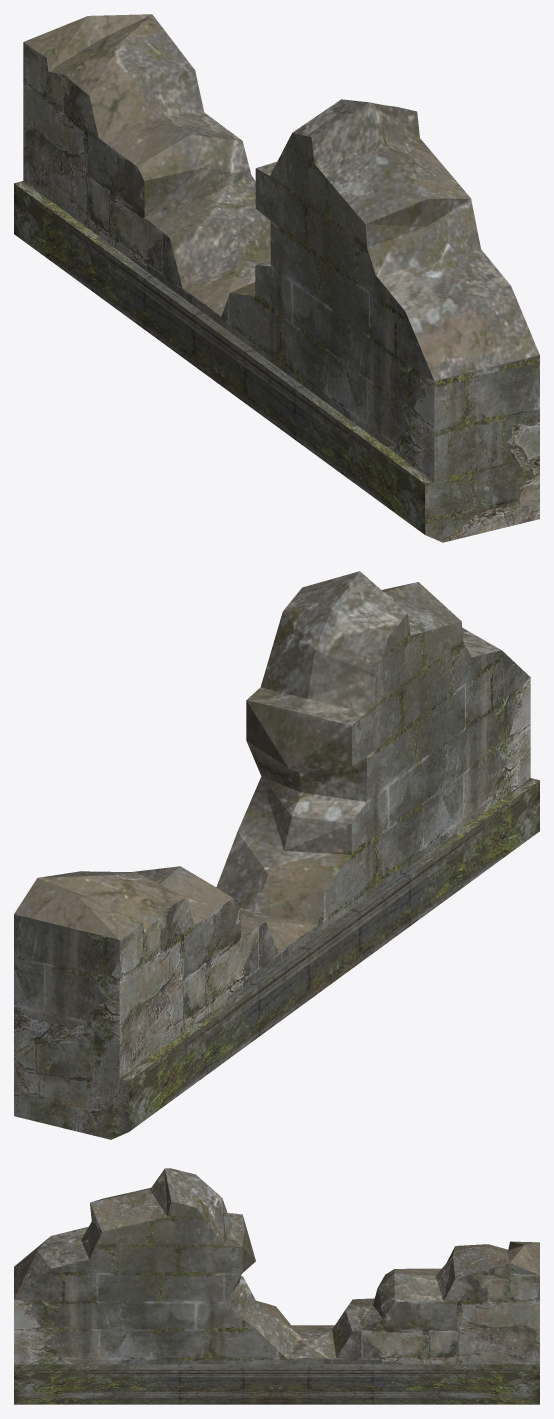
File: bg_lut_lucastle_brosewall02c_sm_psy.FBX
The picture shows the model from 3 angles, top to bottom: view 1: azimuth 30°, elevation 25°; view 2: azimuth 150°, elevation 25°; view 3: azimuth 270°, elevation 25°; orthographic projection. The views are drawn at different scales.
Visible parts, largest first — view 1: bg_lut_lucastle_brosewall02c_sm_psy; view 2: bg_lut_lucastle_brosewall02c_sm_psy; view 3: bg_lut_lucastle_brosewall02c_sm_psy.
Part boxes in pixels (x1,y1,x2,y2): bg_lut_lucastle_brosewall02c_sm_psy: (14, 14, 539, 542); bg_lut_lucastle_brosewall02c_sm_psy: (14, 571, 539, 1139); bg_lut_lucastle_brosewall02c_sm_psy: (14, 1168, 539, 1404).
Size of the model in its own units: 62.03 by 177 by 384.
